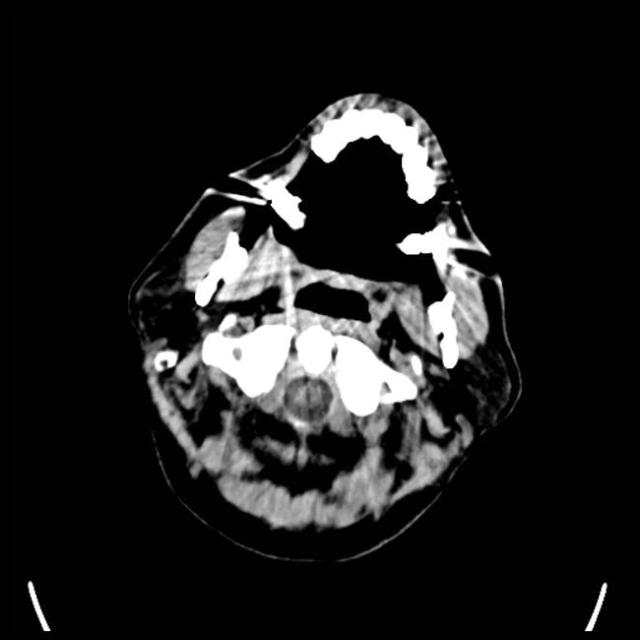lesion: (123, 87, 527, 559)
